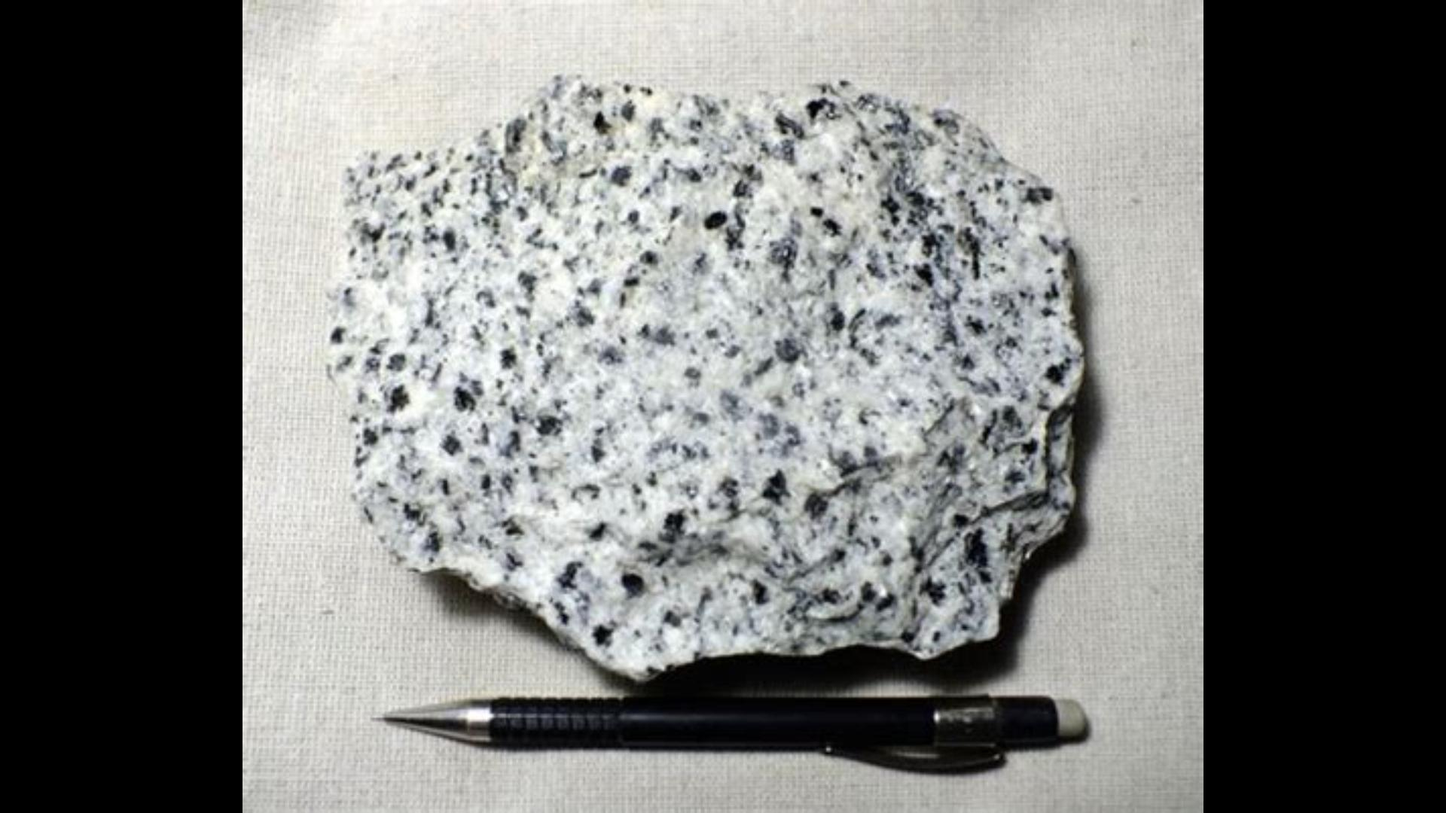rock: (332, 81, 1080, 667)
